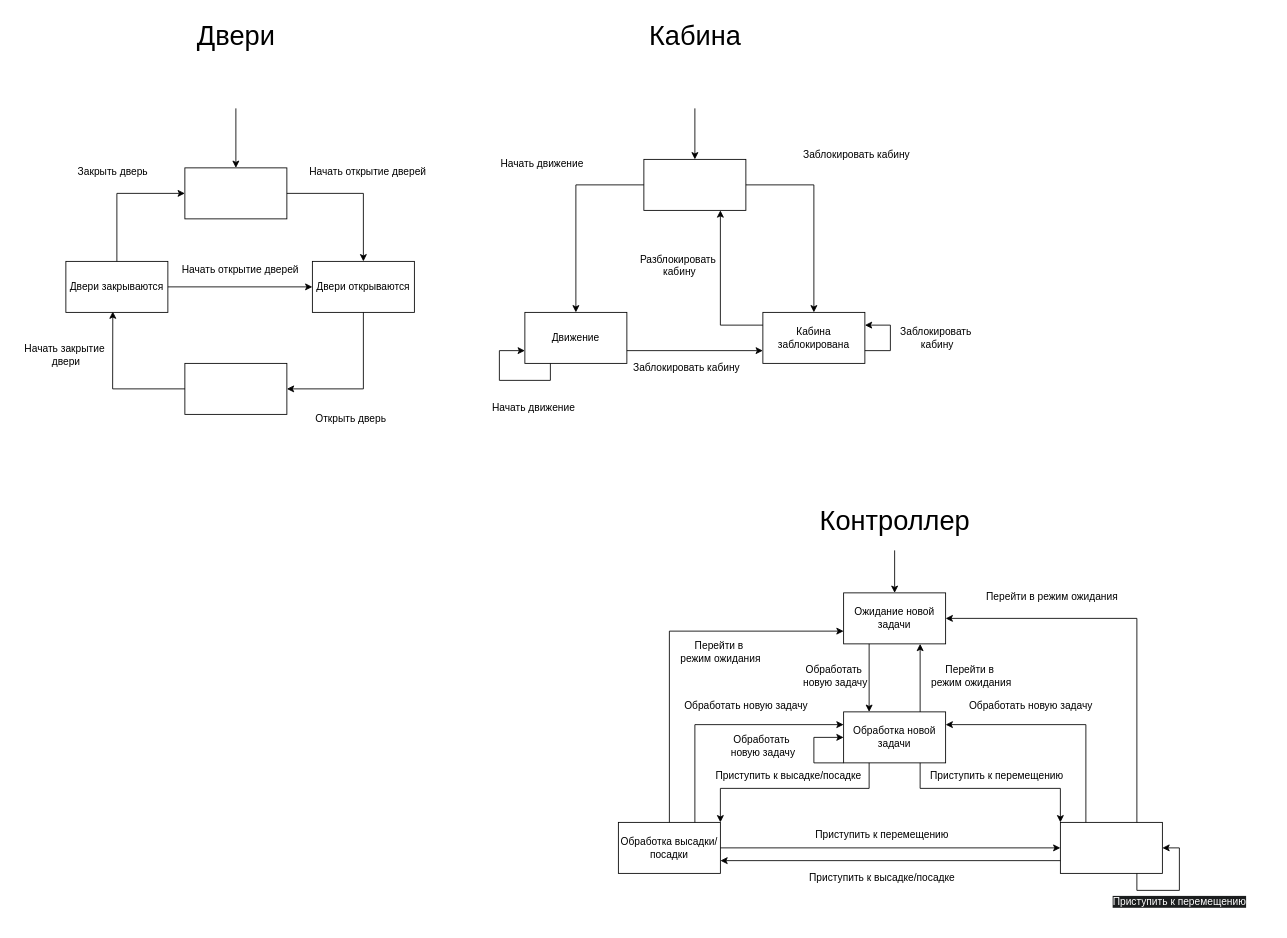
The diagram is 1287 pixels wide and 938 high, and some of its shapes have lost their labels. The shapes that lost their labels are listed below. From the top down, each one's centre as x and y in pixels, then its label:
the point at 235,193: Двери закрыты
the point at 694,184: Кабина разблокирована
the point at 235,388: Двери открыты
the point at 1111,847: Обработка перемещения к этажу
